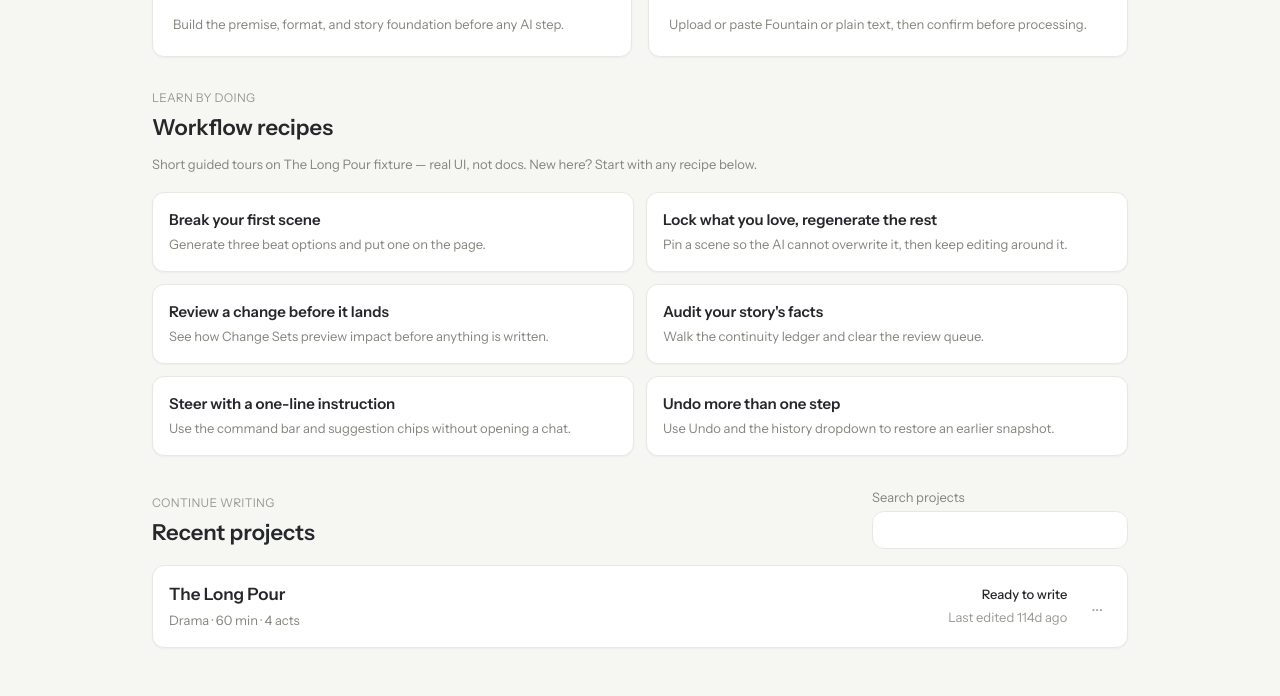
Test case: DashboardScreen › renders a search-empty state and can clear search
The image size is (1280, 696).
(page scrolled)
expect the text "The Long Pour" is shown: met, box [169,584,285,604]
Type "missing" into the field labelled "Search projects" at (1000, 530), box [872,511,1128,548]
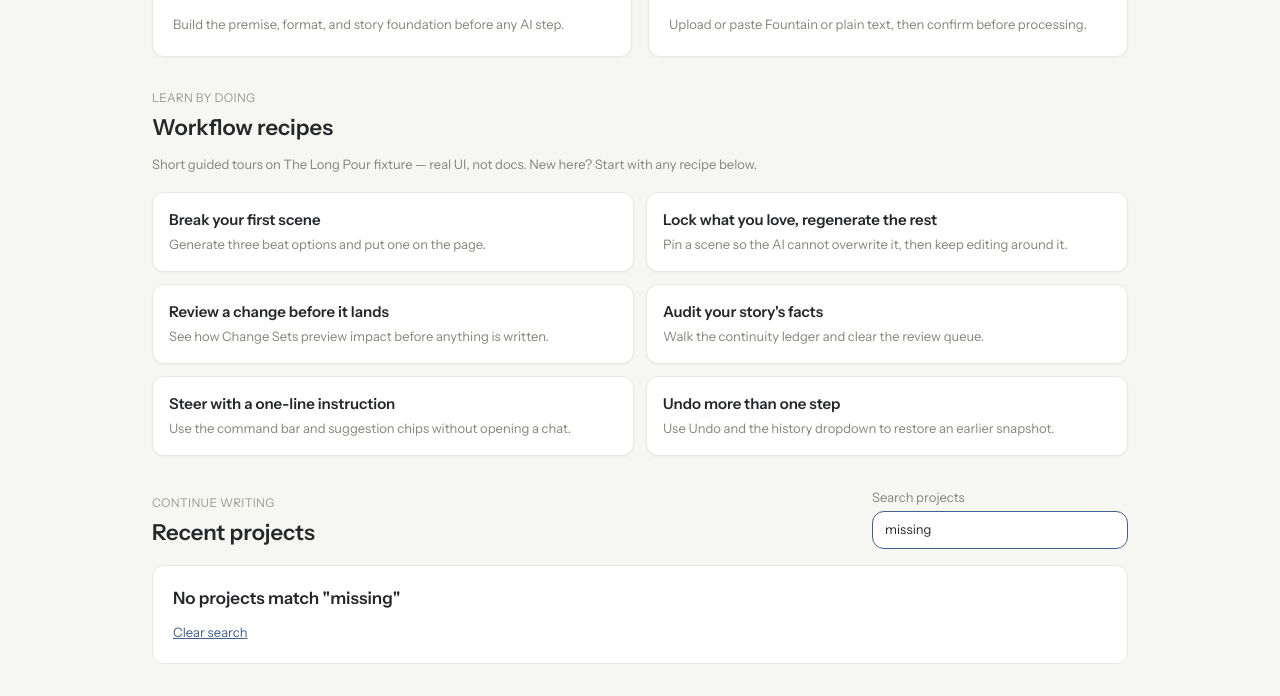
expect the text "No projects match \"missing\"" is shown: met, box [173,588,400,608]
Click the button "Clear search" at (210, 633), box [173,623,247,642]
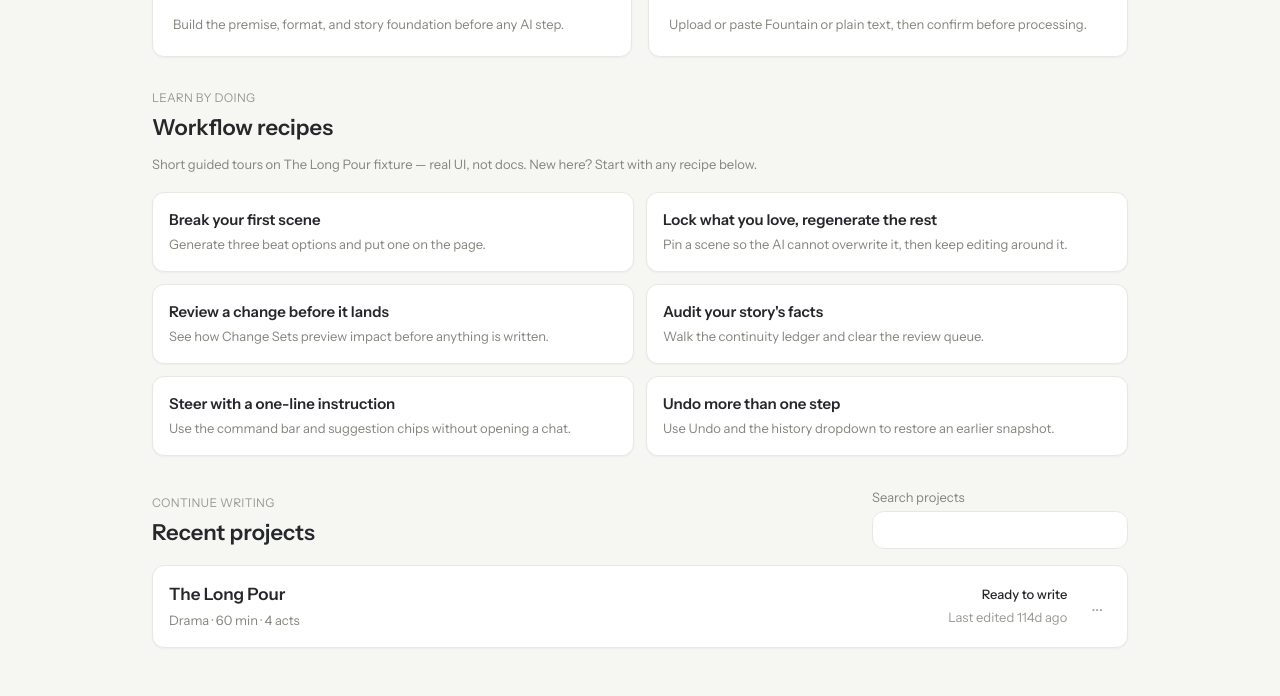
expect the text "The Long Pour" is shown: met, box [169,584,285,604]
